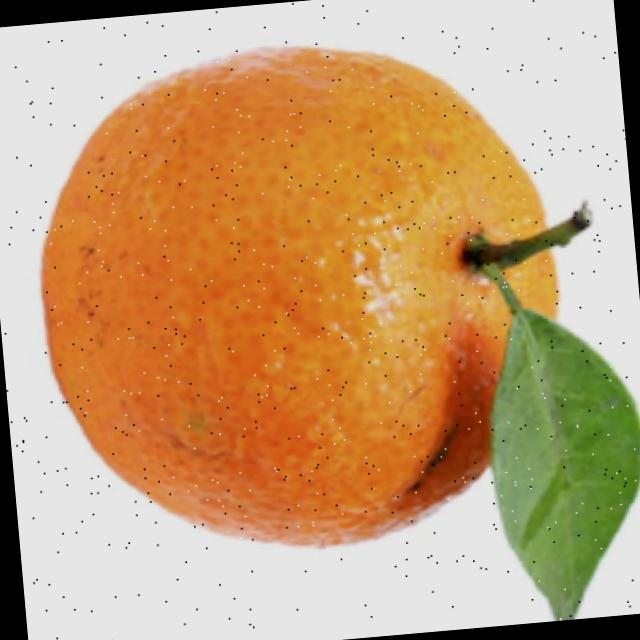orange: (1, 28, 592, 573)
